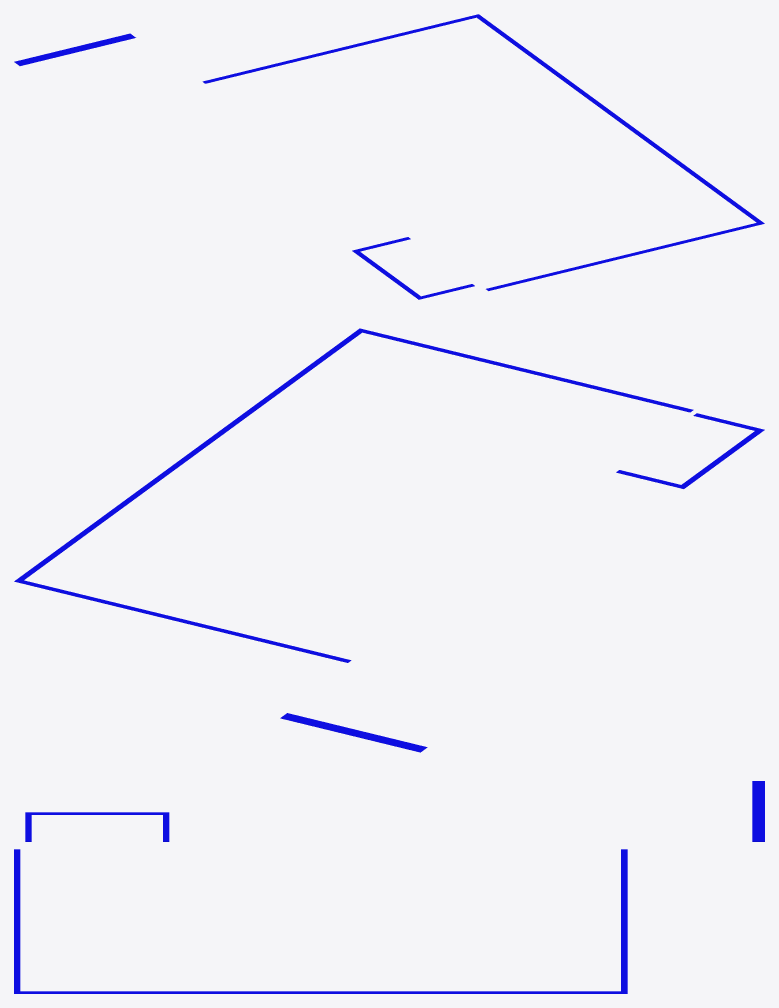
The picture shows the model from 3 angles, top to bottom: view 1: azimuth 30°, elevation 25°; view 2: azimuth 150°, elevation 25°; view 3: azimuth 270°, elevation 25°; orthographic projection. The views are drawn at different scales.
Visible parts, largest first — view 1: structure-0-1-0; view 2: structure-0-1-0; view 3: structure-0-1-0.
Boxes of the visible parts, x1,y1,x2,y2 form: structure-0-1-0: (14, 14, 764, 299); structure-0-1-0: (14, 328, 764, 752); structure-0-1-0: (14, 781, 764, 993).
Bounding box in the file's own units: 1.99 × 0.0152 × 3.01.
